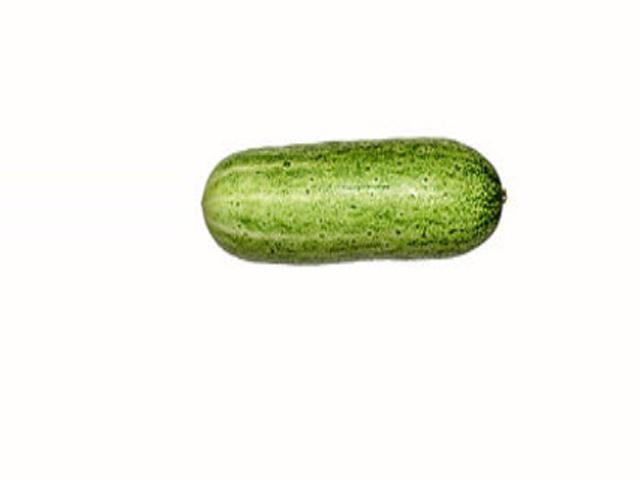cucumber: (201, 139, 507, 262)
